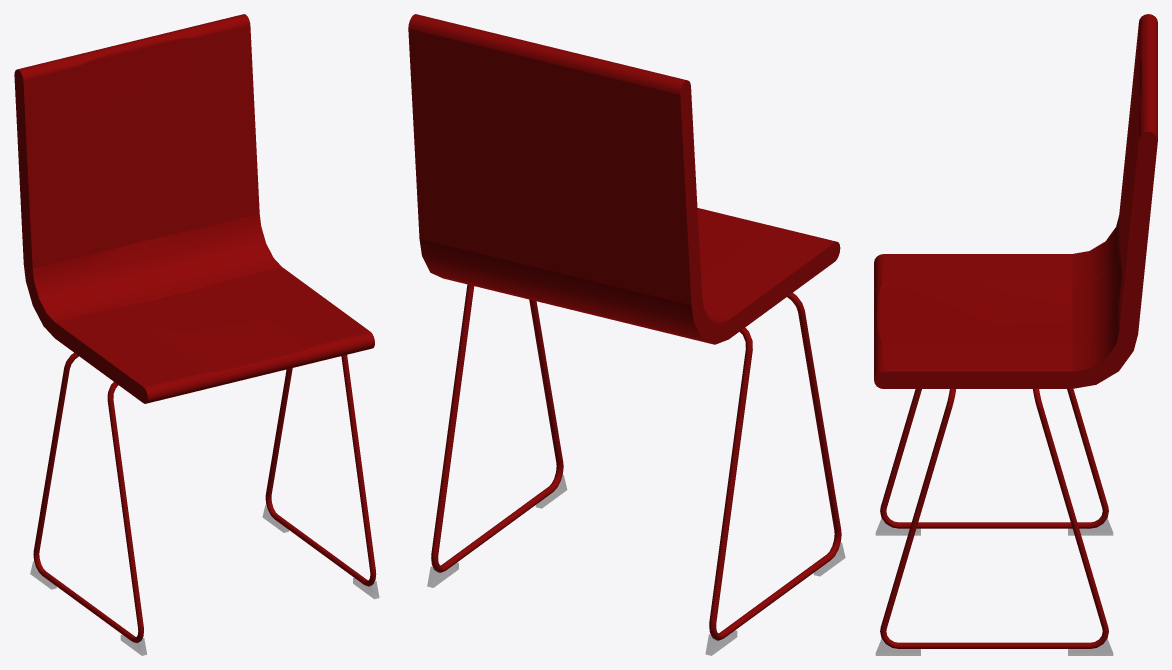
Rendered from volfgang.glb.
The picture shows the model from 3 angles, left to right: view 1: azimuth 30°, elevation 25°; view 2: azimuth 150°, elevation 25°; view 3: azimuth 270°, elevation 25°; orthographic projection. The views are drawn at different scales.
Visible parts, largest first — view 1: IKE170035; view 2: IKE170035; view 3: IKE170035.
Boxes of the visible parts, x1,y1,x2,y2 form: IKE170035: (14,14,379,655); IKE170035: (408,14,845,655); IKE170035: (874,14,1157,655).
Bounding box in the file's own units: 0.46 × 0.908 × 0.448.
2 materials, 1 textured.
